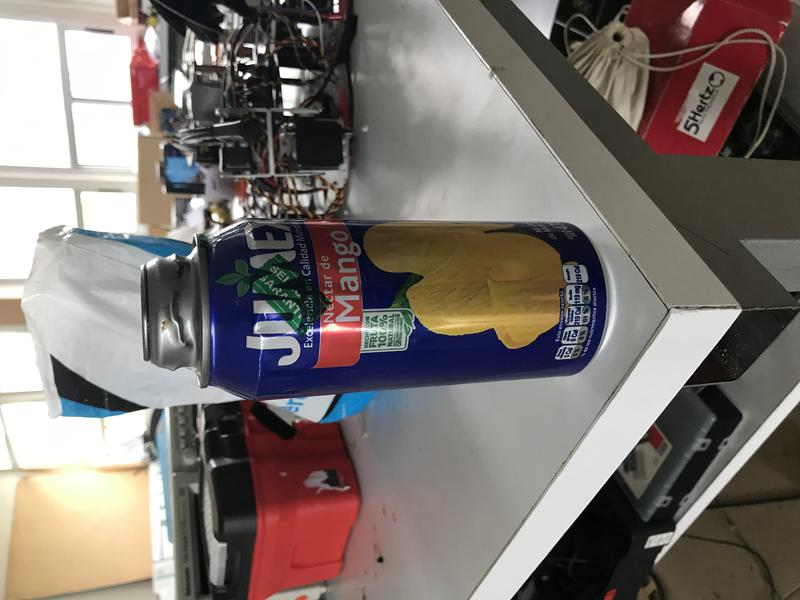jumex_botella: (139, 216, 618, 404)
